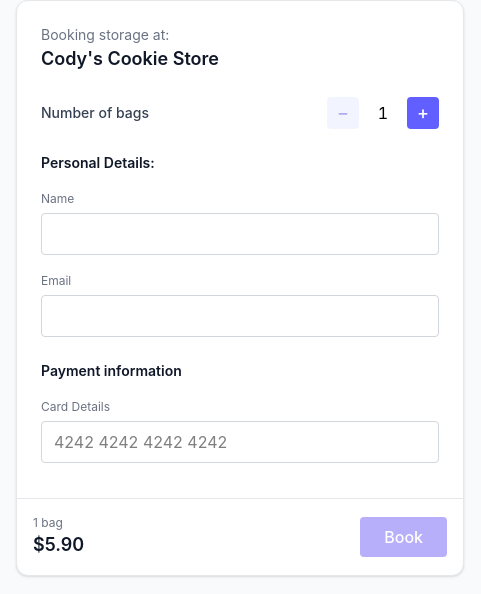
Test: BookingForm › shows 'Booking Placed!' on success
Expected: the heading "Cody's Cookie Store" is shown, 41,48 -> 219,69
Type "John Doe" into the field labelled "Name".
click(240, 234); type("John Doe")  # box 41,213 -> 439,255
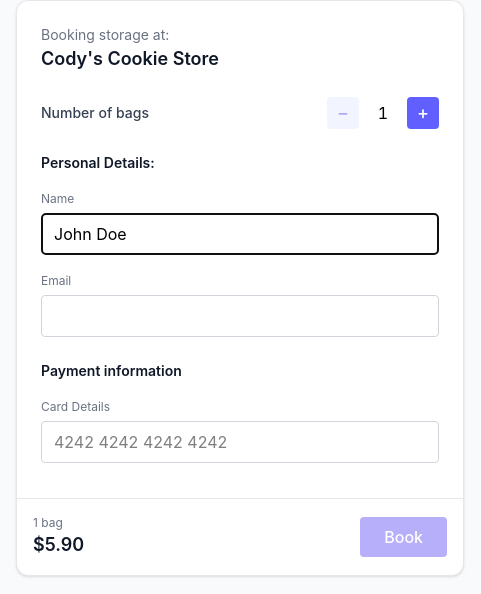
Type "john@doe.com" into the field labelled "Email".
click(240, 316); type("john@doe.com")  # box 41,295 -> 439,337
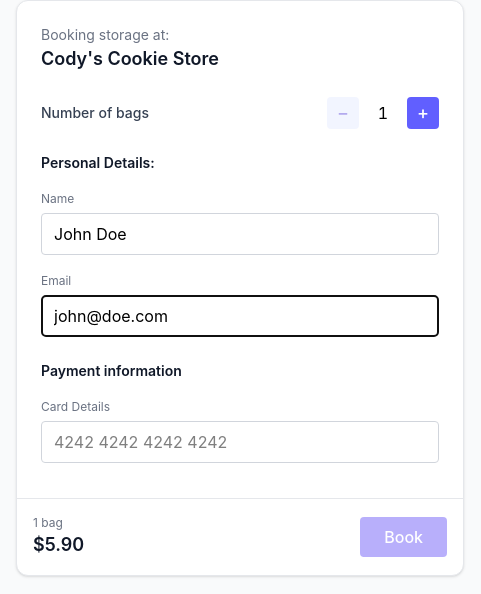
Type "4242424242424242" into the field labelled "Card Details".
click(240, 442); type("4242424242424242")  # box 41,421 -> 439,463
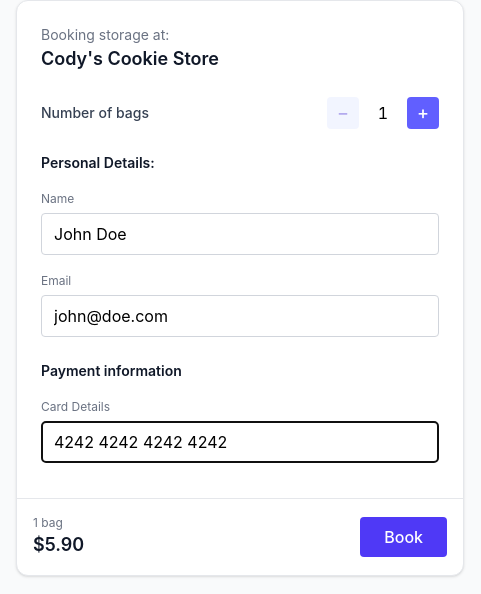
Click the button "Book".
click(404, 537)  # box 360,517 -> 447,557
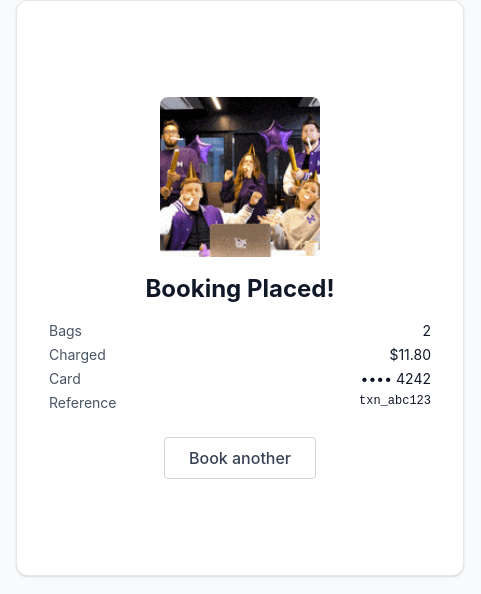
Expected: the heading "Booking Placed!" is shown, 145,273 -> 335,305
Expected: the text "txn_abc123" is shown, 359,393 -> 431,413
